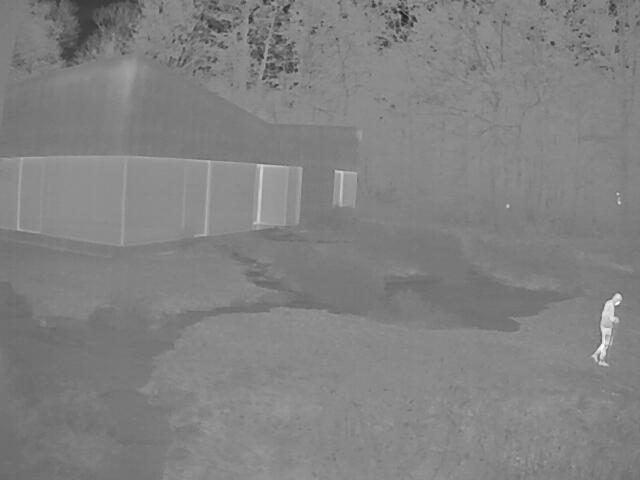person: (591, 291, 622, 366)
